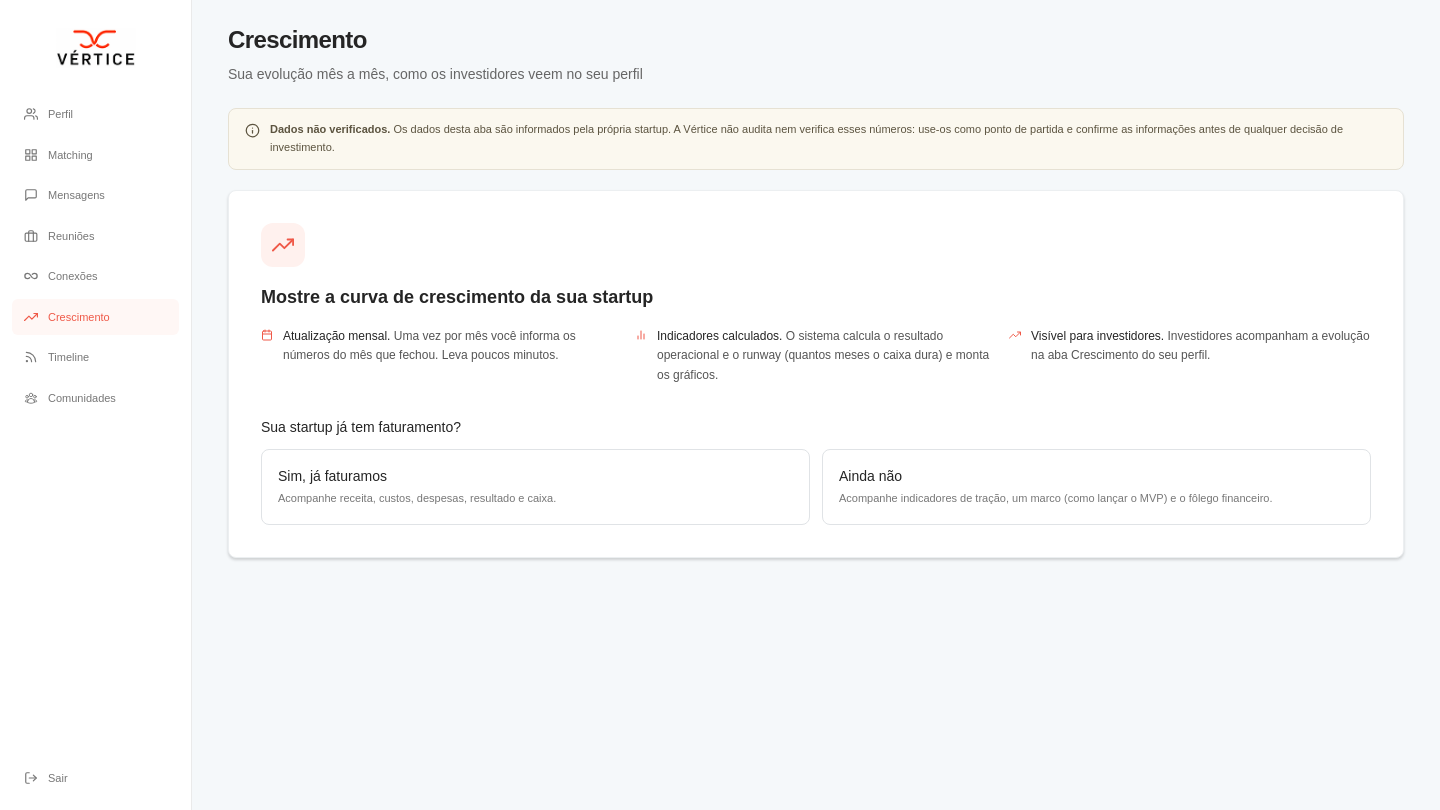
primeira visita da startup › com faturamento: exige o critério de receita e salva
Click the button "Sim, já faturamos" at [332, 476], box 261,449 -> 810,525
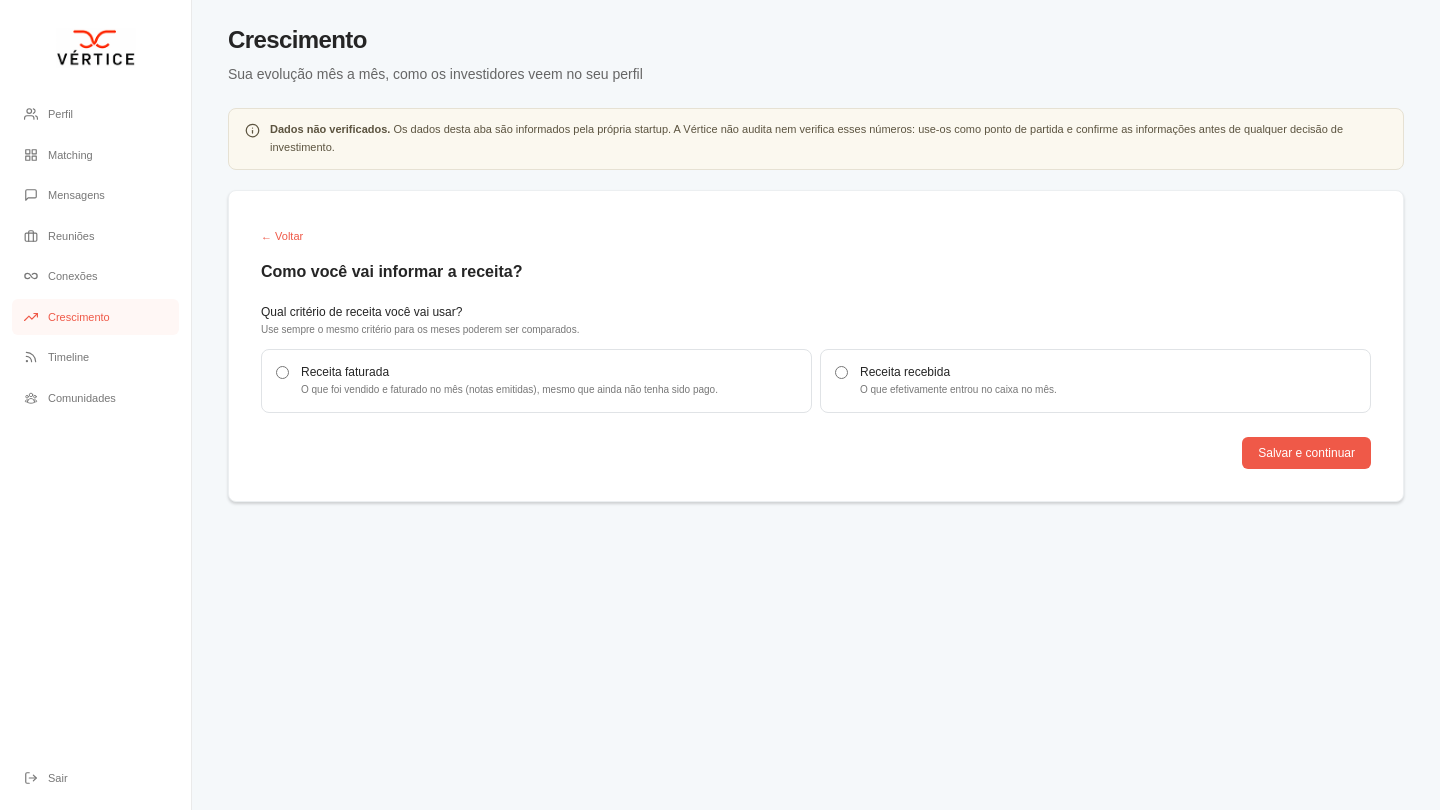
Click the button "Salvar e continuar" at [1307, 453], box 1242,437 -> 1371,469
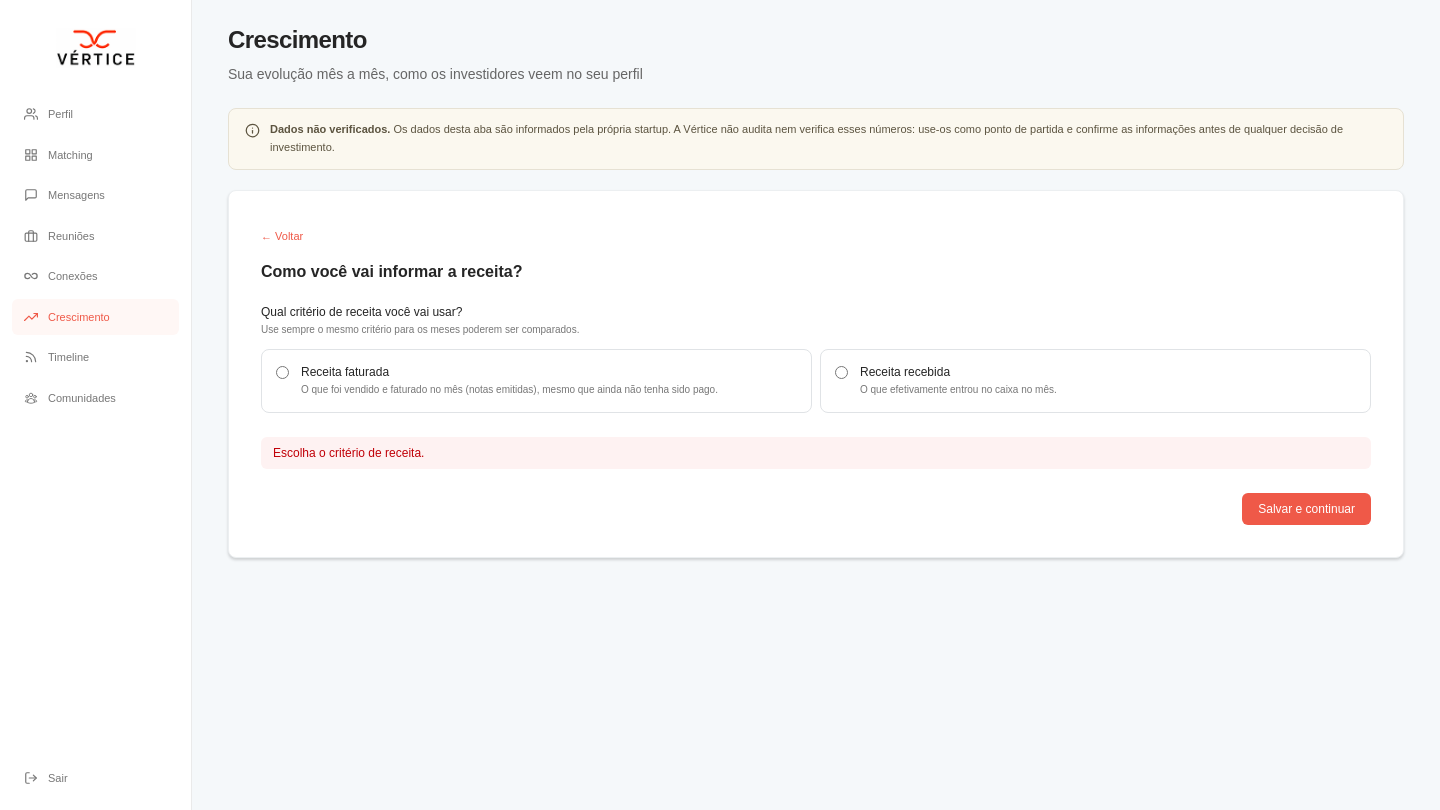
Expected: the text "Escolha o critério de receita." is shown, 261,437 -> 1371,469
Click the radio button labelled "Receita recebida O que efetivamente entrou no caixa no mês." at [842, 372], box 835,366 -> 848,378
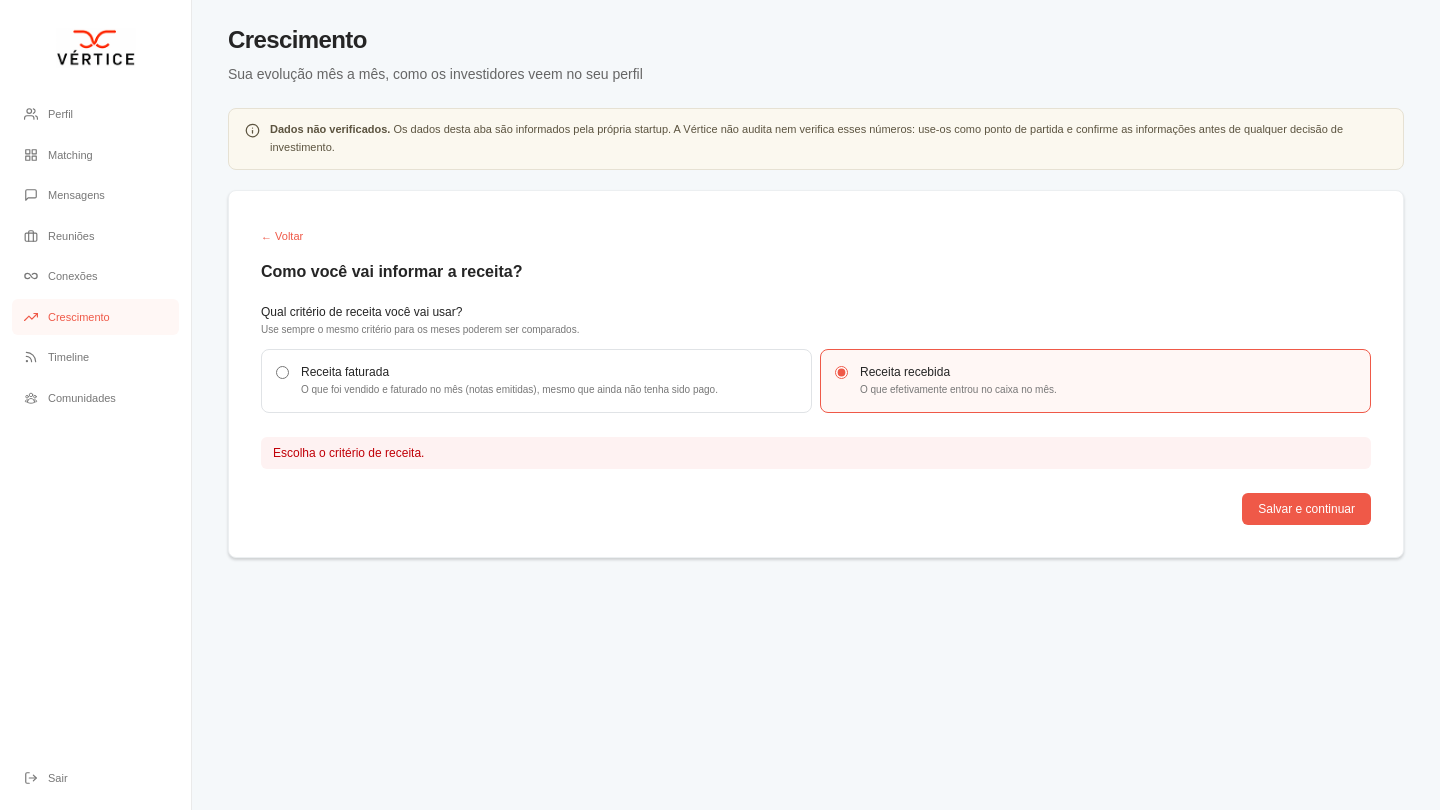
Click the button "Salvar e continuar" at [1307, 509], box 1242,493 -> 1371,525
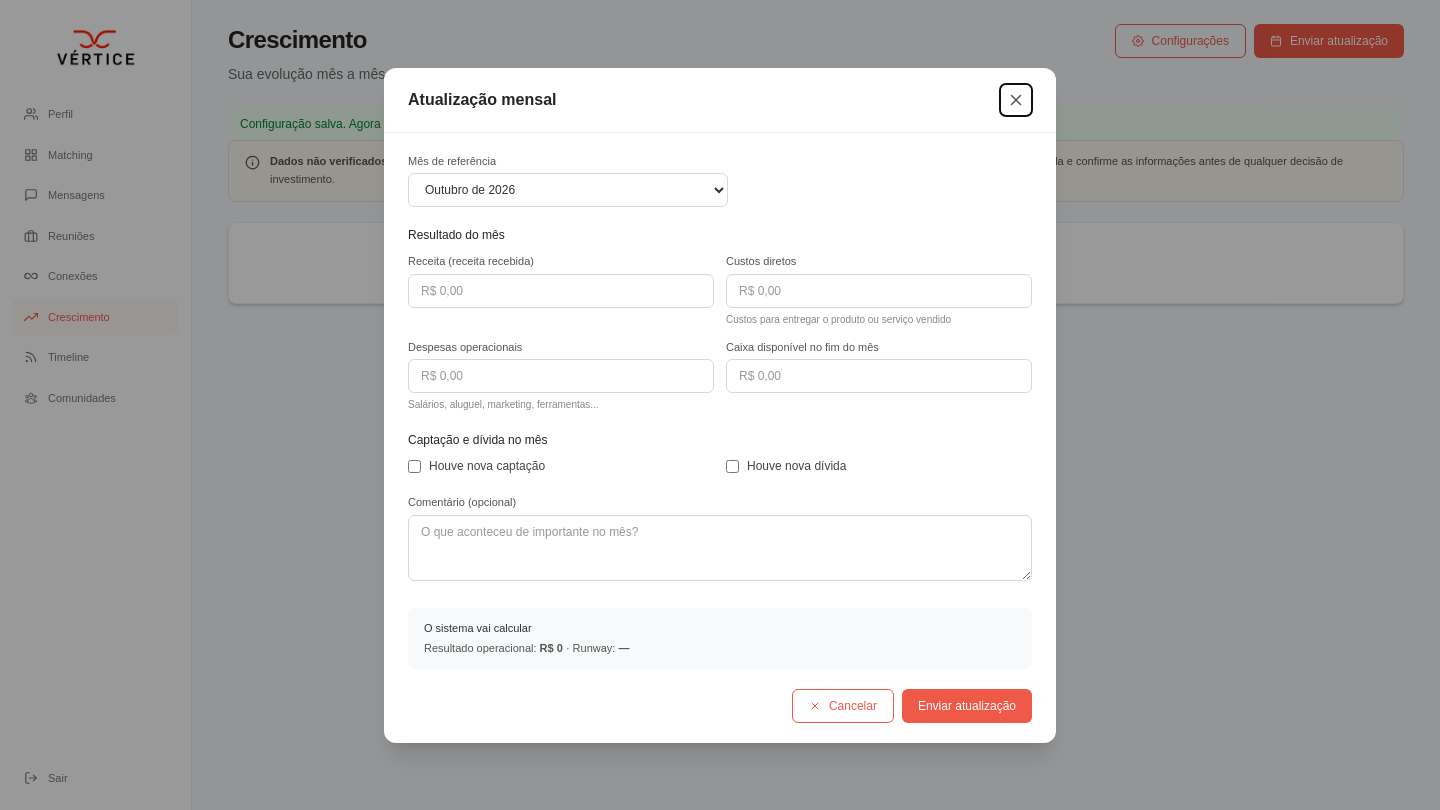
Expected: the dialog "Atualização mensal" is shown, 384,68 -> 1056,742
